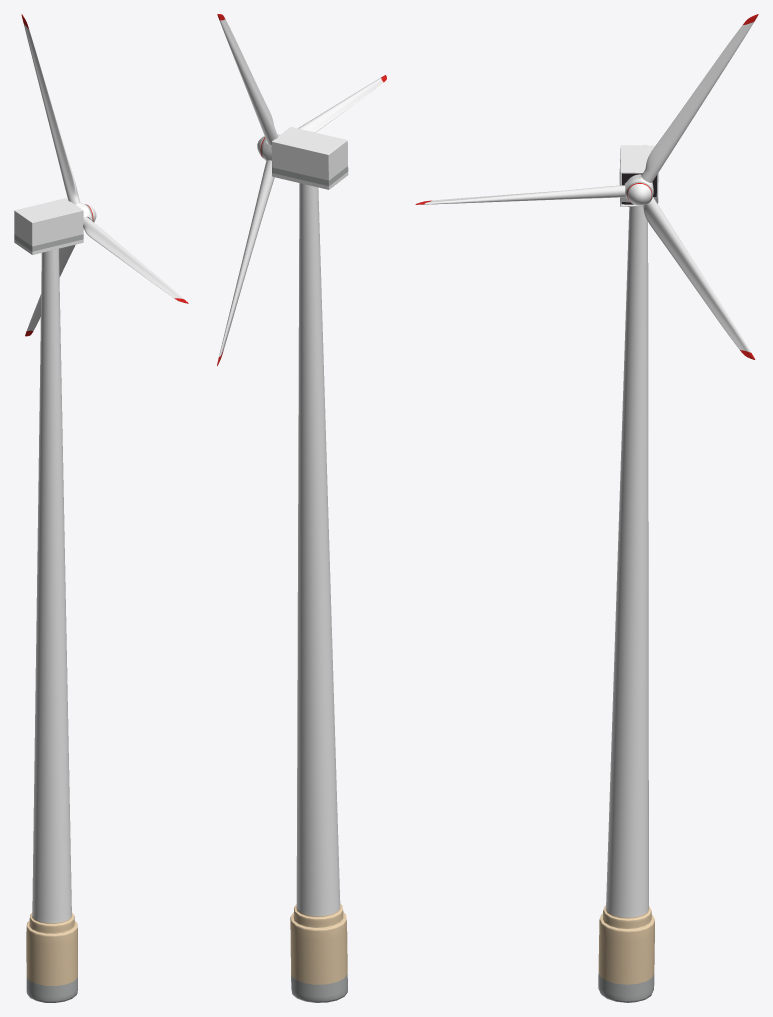
File: eOLICO.fbx
3 views of the same model, side by side, from view 1: azimuth 30°, elevation 25°; view 2: azimuth 150°, elevation 25°; view 3: azimuth 270°, elevation 25° (orthographic). The views are drawn at different scales.
Parts seen in each view (by area): view 1: base, Roundcube; view 2: base, Roundcube; view 3: base, Roundcube.
Boxes of the visible parts, x1,y1,x2,y2 form: base: [14, 198, 83, 1002]; Roundcube: [21, 14, 188, 336]; base: [271, 127, 348, 1002]; Roundcube: [217, 14, 386, 365]; base: [598, 145, 658, 1002]; Roundcube: [415, 14, 758, 359].
Bounding box in the file's own units: 10.16 × 124 × 38.81.
Materials: 1 (1 with a texture image).
